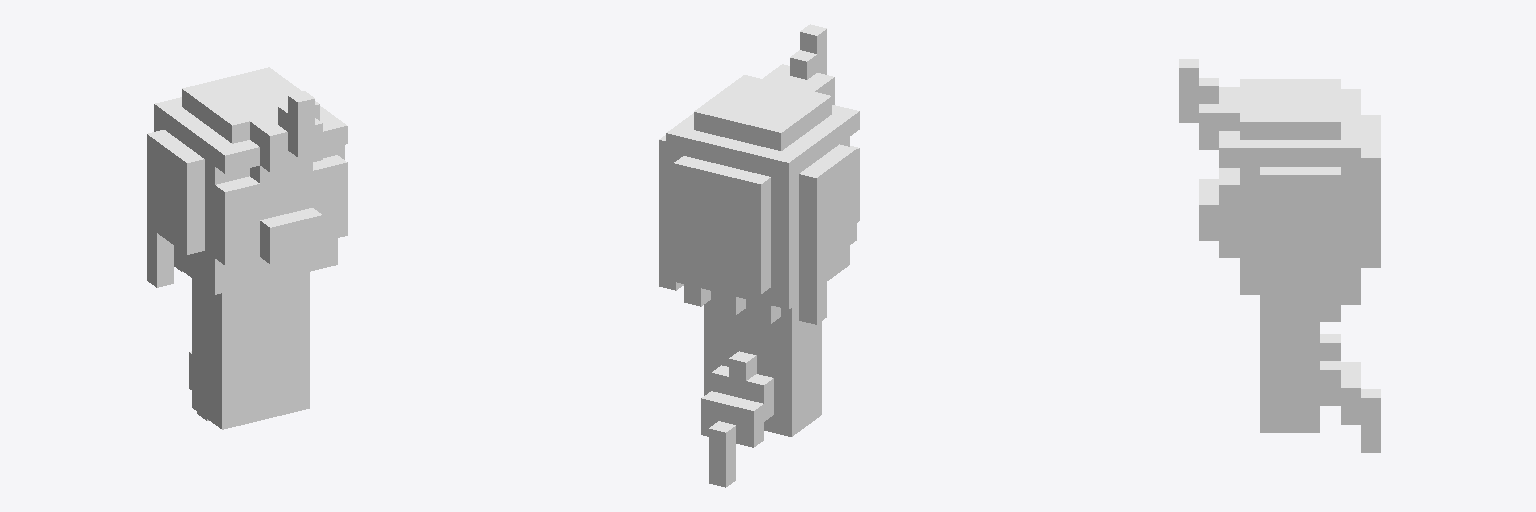
Rendered from gglive_mom_main.obj.
3 views of the same model, side by side, from view 1: azimuth 30°, elevation 25°; view 2: azimuth 150°, elevation 25°; view 3: azimuth 270°, elevation 25° (orthographic).
Visible parts, largest first — view 1: gglive_mom_main; view 2: gglive_mom_main; view 3: gglive_mom_main.
Boxes of the visible parts, <box> form: gglive_mom_main: <box>147,67,347,429</box>; gglive_mom_main: <box>659,24,859,487</box>; gglive_mom_main: <box>1179,59,1380,452</box>.
Bounding box in the file's own units: 9 × 21 × 10.